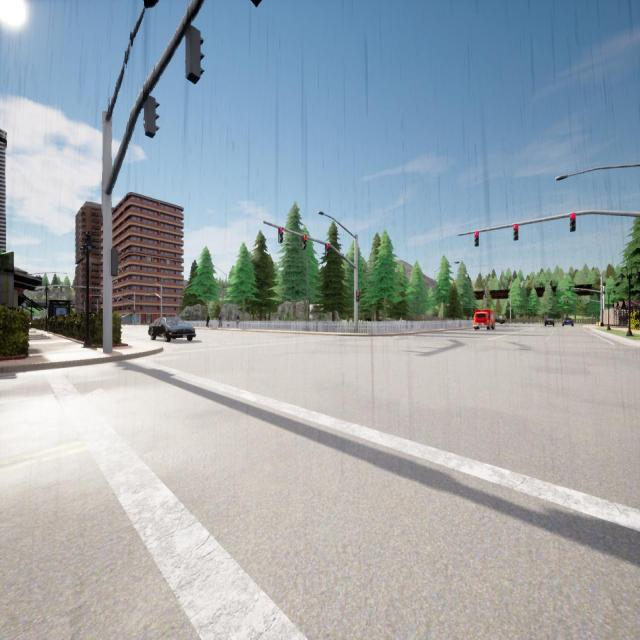Pedestrian: (206, 313, 210, 328), (218, 314, 222, 327), (237, 315, 240, 328)
Traffic_Signs: (499, 315, 502, 319)
Vehicle: (149, 317, 195, 342), (474, 310, 494, 330), (562, 318, 574, 327), (545, 319, 554, 326)
traffic_light: (186, 25, 205, 85), (144, 96, 160, 138), (112, 249, 118, 275), (570, 214, 576, 232), (514, 224, 518, 240), (278, 228, 282, 243), (302, 236, 306, 250), (475, 232, 479, 246), (326, 244, 330, 256), (356, 291, 360, 301), (90, 296, 92, 298), (134, 310, 135, 314), (100, 295, 101, 298), (580, 299, 581, 302), (115, 297, 116, 299), (558, 300, 558, 303), (568, 300, 568, 303)
